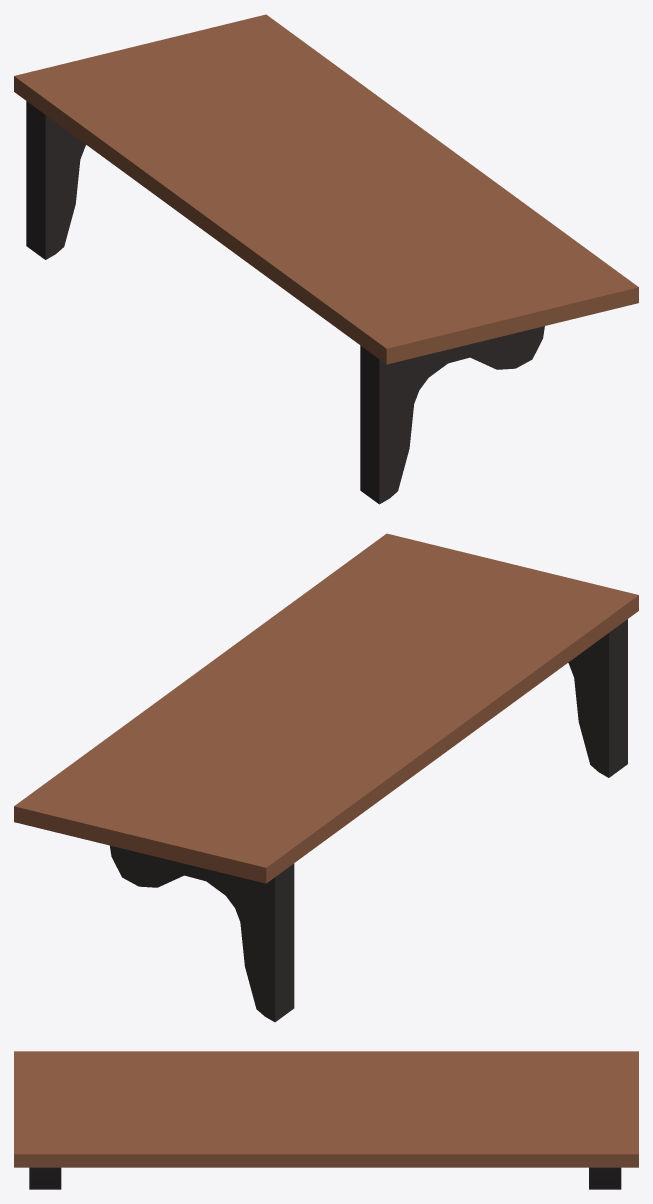
File: wallshelf_size01.fbx
3 renders of one model, top to bottom at view 1: azimuth 30°, elevation 25°; view 2: azimuth 150°, elevation 25°; view 3: azimuth 270°, elevation 25°, orthographic. The views are drawn at different scales.
Parts seen in each view (by area): view 1: Cube.017; view 2: Cube.017; view 3: Cube.017.
Part boxes in pixels (<box>): Cube.017: <box>14,14,638,504</box>; Cube.017: <box>14,533,638,1022</box>; Cube.017: <box>14,1051,638,1189</box>.
Size of the model in its own units: 57.93 by 35.73 by 148.
